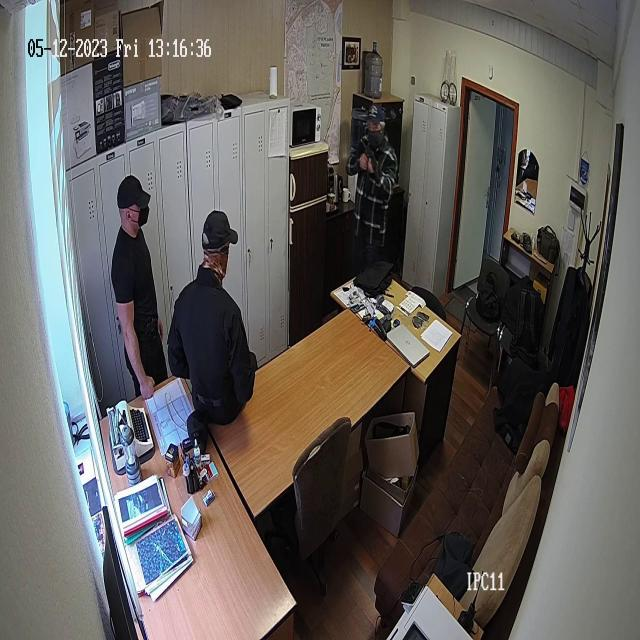gun: (172, 206, 260, 420), (112, 172, 170, 378), (351, 101, 401, 278), (358, 139, 386, 186), (510, 229, 520, 246)
